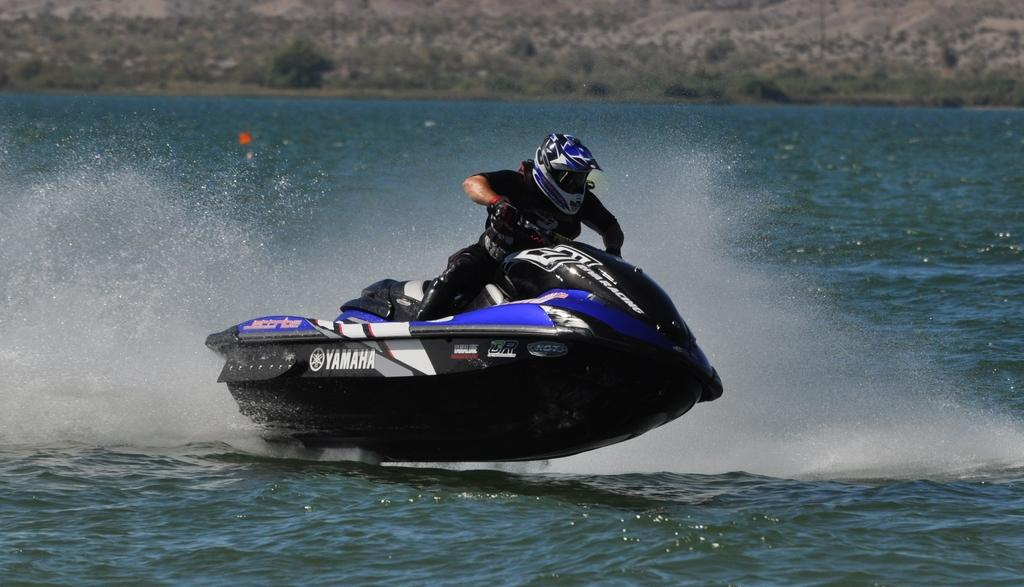helmet: (531, 133, 604, 217)
